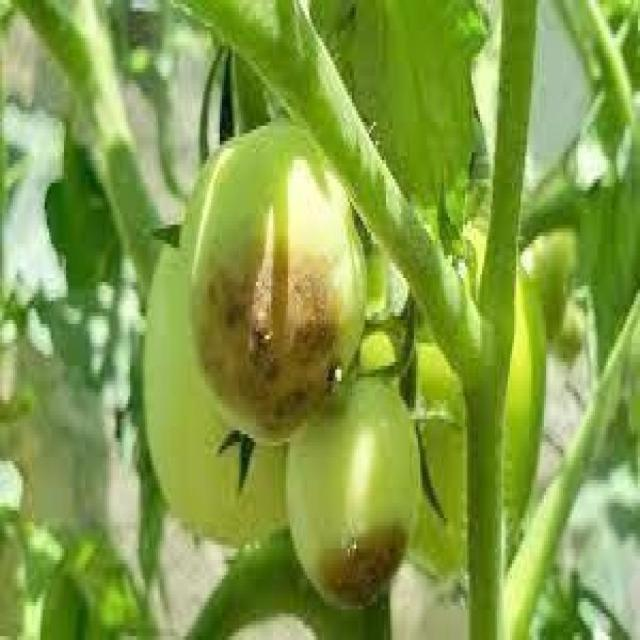Blossom End Rot Fruit: (71, 49, 239, 372)
